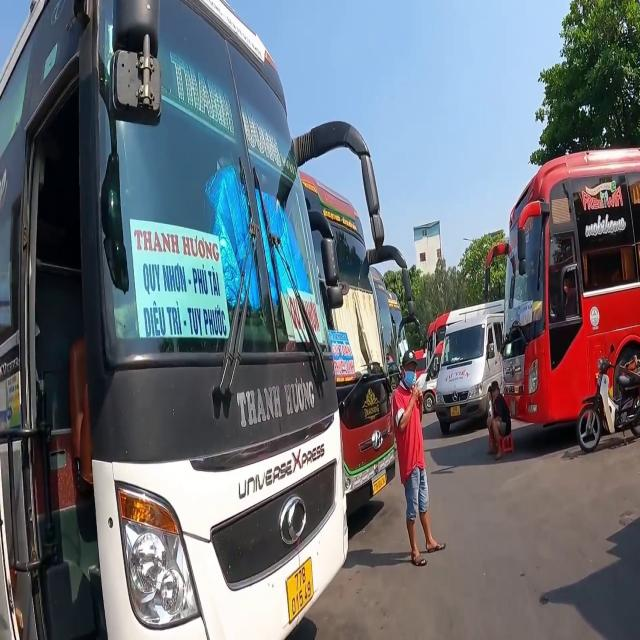bien_vang: (282, 555, 315, 626)
